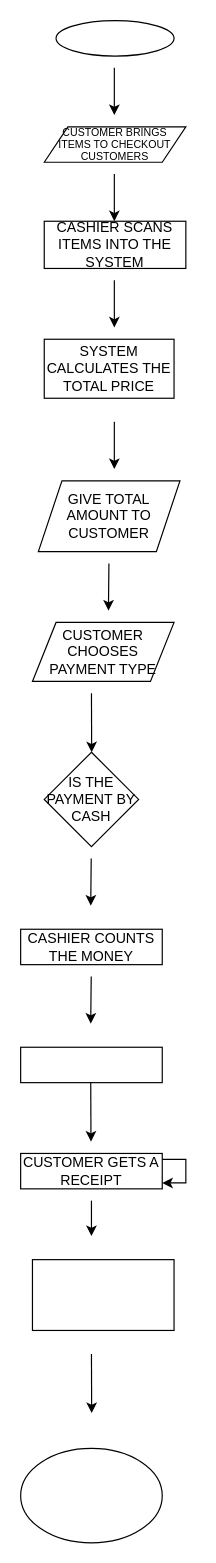
Some shapes in this 216 by 1563 pixel diagram are drawn without their labels. Each missing label, with the centre of its shape:
"CUSTOMER LEAVES THE STORE" goes at point (102, 1294).
"CUSTOMER PAYS" goes at point (90, 1064).
"END" goes at point (90, 1495).
"Start" goes at point (114, 37).
